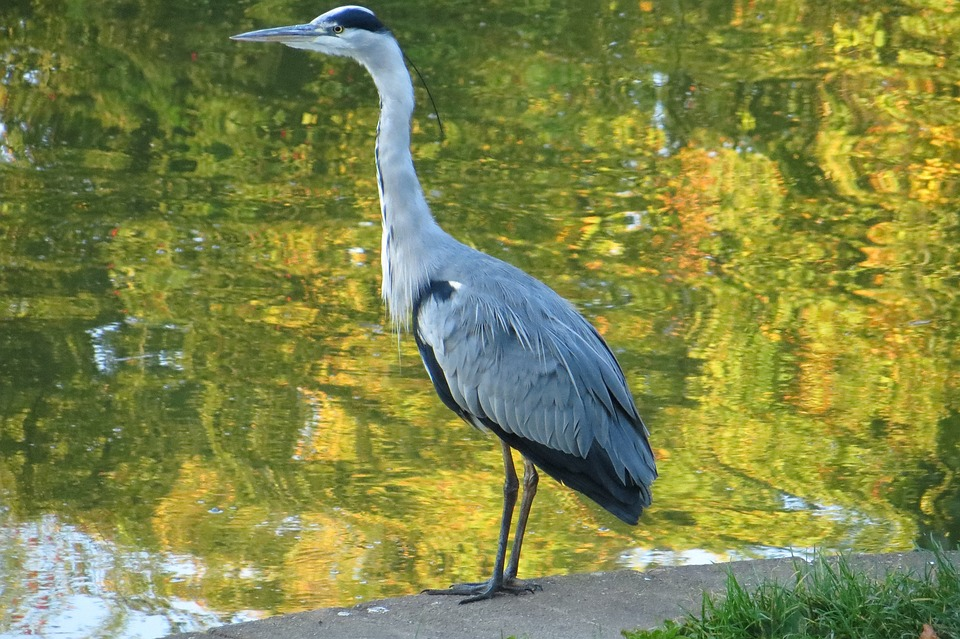heron: (232, 4, 661, 610)
